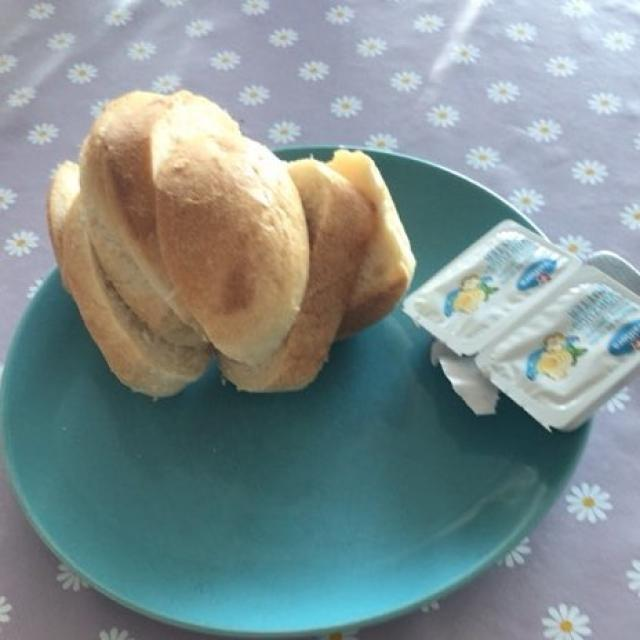bread: (61, 90, 410, 397)
